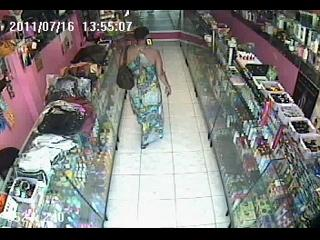Normal: (120, 26, 172, 149), (116, 44, 134, 90)
